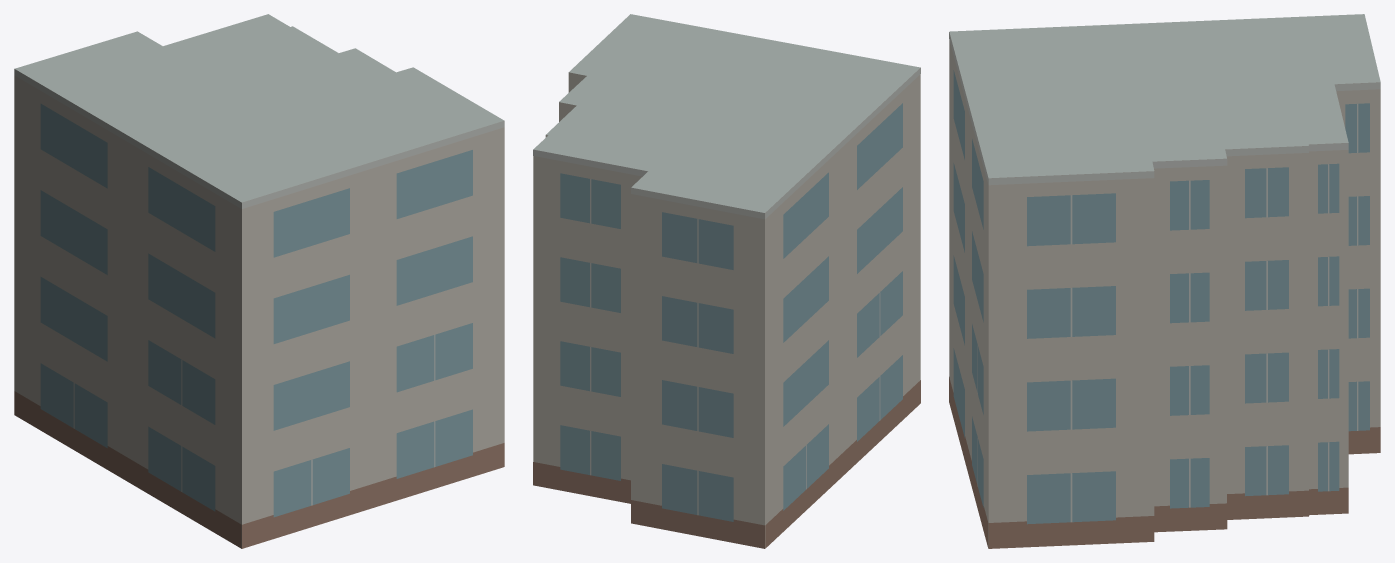
File: survey-upis-32663613.glb
The picture shows the model from 3 angles, left to right: view 1: azimuth 30°, elevation 25°; view 2: azimuth 150°, elevation 25°; view 3: azimuth 270°, elevation 25°; orthographic projection. The views are drawn at different scales.
Parts seen in each view (by area): view 1: survey-upis-32663613.tmp; view 2: survey-upis-32663613.tmp; view 3: survey-upis-32663613.tmp.
Part boxes in pixels (bbox=[...]): survey-upis-32663613.tmp: bbox=[14, 14, 504, 548]; survey-upis-32663613.tmp: bbox=[533, 14, 920, 548]; survey-upis-32663613.tmp: bbox=[949, 14, 1380, 548].
Size of the model in its own units: 12.27 by 12.9 by 13.62.
